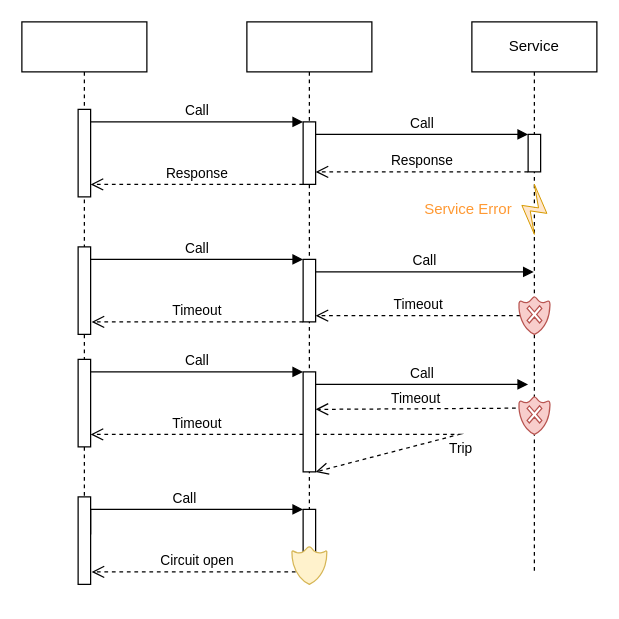
This 619x619 diagram has some shape labels left out. Each missing label, with the centre of its shape:
"Circuit Breaker" belongs at [309,271].
"Client" belongs at [84,302].
